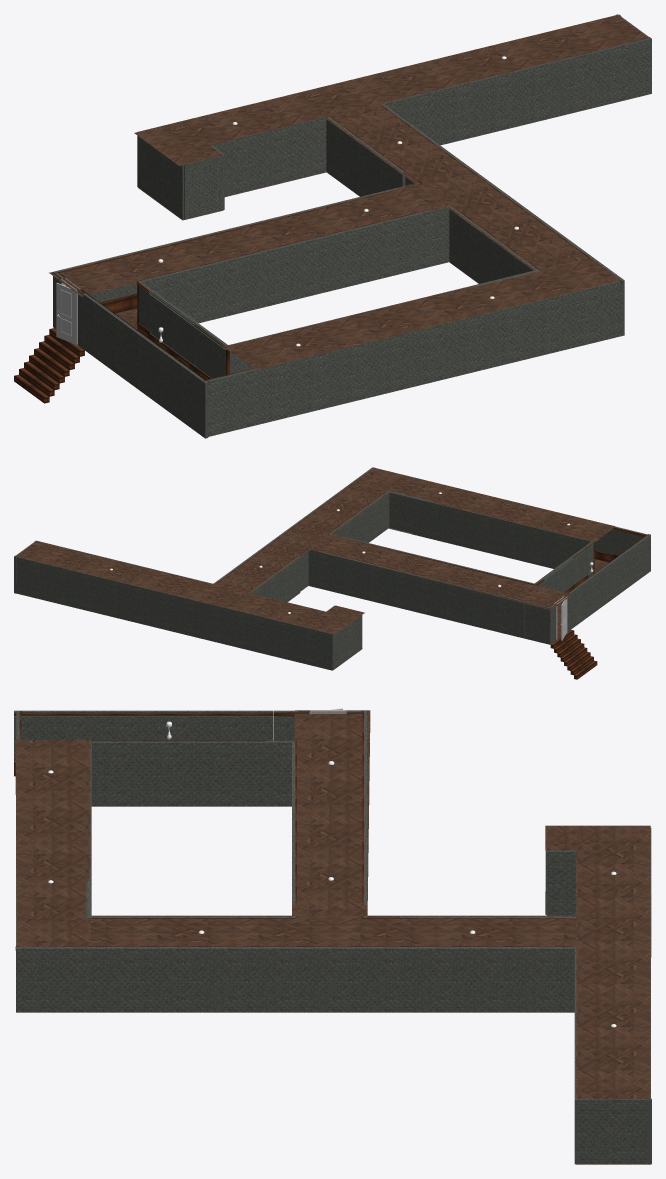
The model's file is casa.obj.
3 views of the same model, one above another, from view 1: azimuth 30°, elevation 25°; view 2: azimuth 150°, elevation 25°; view 3: azimuth 270°, elevation 25° (orthographic). The views are drawn at different scales.
Parts seen in each view (by area): view 1: Object_258, Object_302, Object_4, Object_294, Object_10, Object_8; view 2: Object_258, Object_302, Object_4, Object_10; view 3: Object_258, Object_302, Object_276.
Boxes of the visible parts, left/top/right/bottom form: Object_258: left=53, top=14, right=651, bottom=438; Object_302: left=49, top=15, right=648, bottom=369; Object_4: left=14, top=328, right=84, bottom=403; Object_294: left=184, top=155, right=223, bottom=219; Object_10: left=56, top=278, right=80, bottom=345; Object_8: left=55, top=184, right=420, bottom=273; Object_258: left=14, top=467, right=650, bottom=670; Object_302: left=16, top=468, right=615, bottom=634; Object_4: left=550, top=630, right=597, bottom=679; Object_10: left=554, top=596, right=567, bottom=640; Object_258: left=14, top=710, right=651, bottom=1164; Object_302: left=15, top=710, right=650, bottom=1099; Object_276: left=14, top=712, right=309, bottom=716.
Bounding box in the file's own units: 166 × 21.84 × 109.
